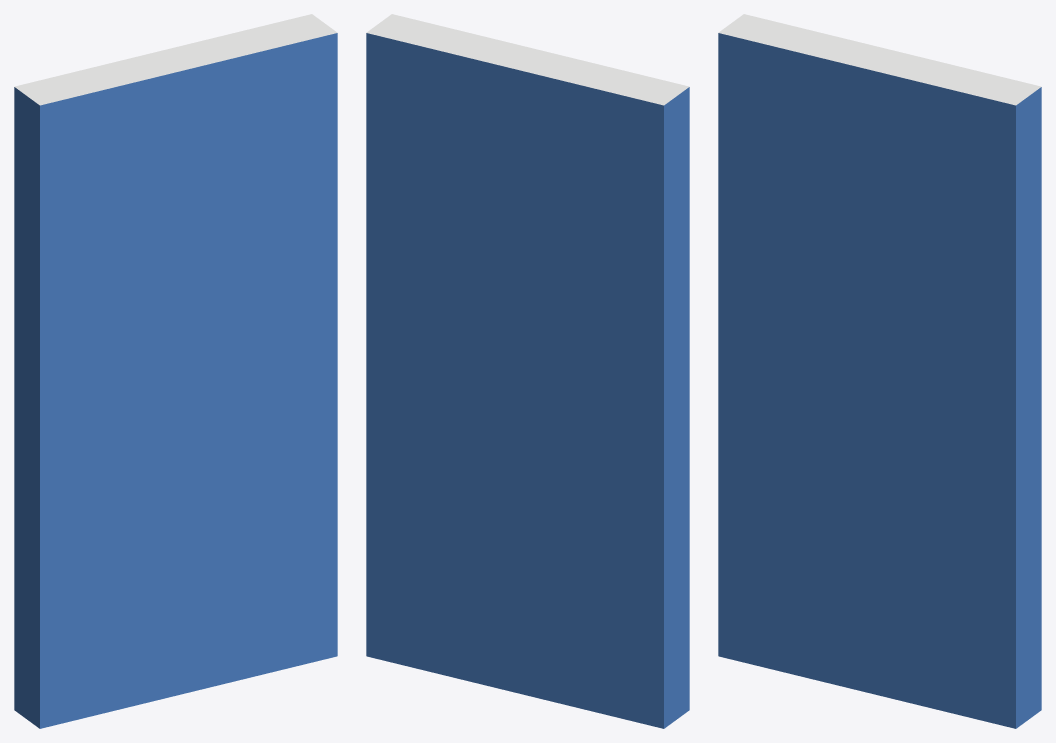
File: parede_complemento_2m_1m.glb
3 renders of one model, left to right at view 1: azimuth 30°, elevation 25°; view 2: azimuth 150°, elevation 25°; view 3: azimuth 330°, elevation 25°, orthographic.
Visible parts, largest first — view 1: parede_complemento_2m_1m; view 2: parede_complemento_2m_1m; view 3: parede_complemento_2m_1m.
Part boxes in pixels (x1=…): parede_complemento_2m_1m: x1=14, y1=14, x2=337, y2=728; parede_complemento_2m_1m: x1=366, y1=14, x2=689, y2=728; parede_complemento_2m_1m: x1=718, y1=14, x2=1041, y2=728.
Size of the model in its own units: 1 by 2 by 0.15.
